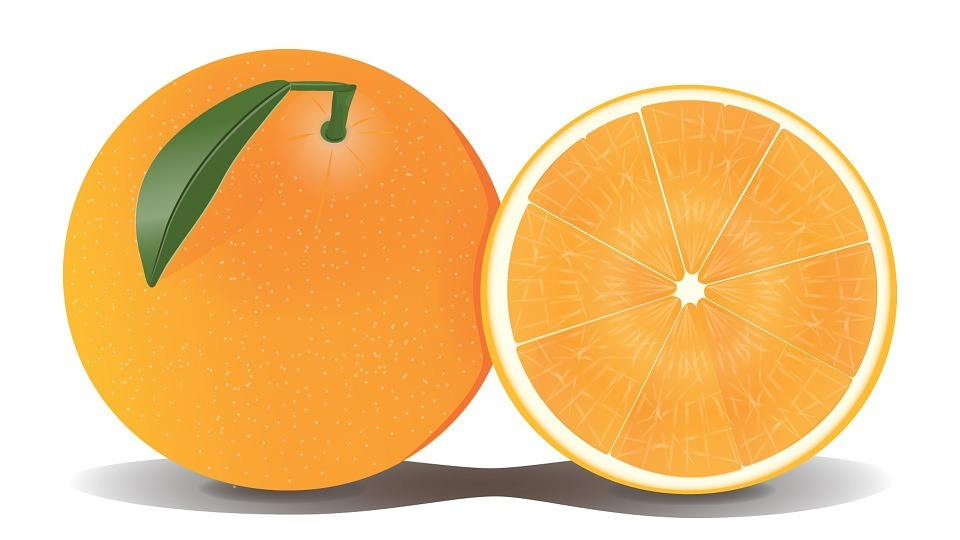orange: (61, 36, 526, 492)
